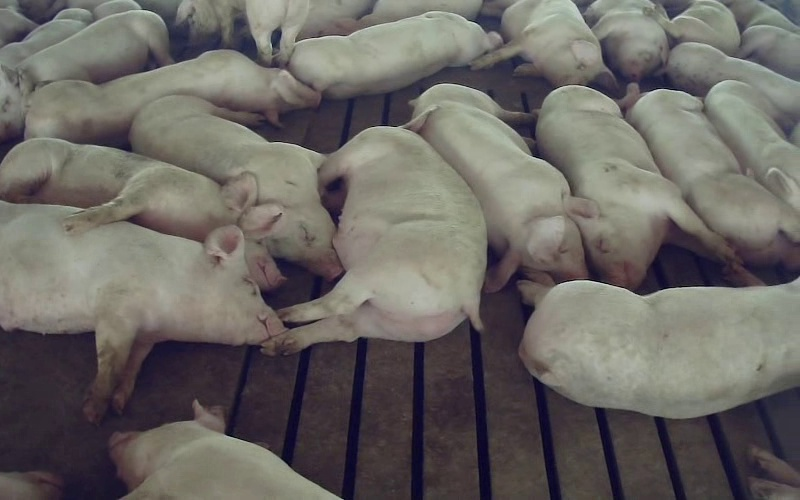pig: (263, 106, 486, 354), (519, 265, 799, 417), (536, 85, 739, 288), (129, 96, 341, 279), (411, 84, 586, 290), (619, 83, 799, 270), (24, 50, 320, 146), (109, 400, 338, 499), (0, 10, 171, 142), (288, 11, 501, 98), (471, 0, 616, 88), (705, 80, 799, 210), (666, 42, 799, 118), (174, 0, 309, 65), (584, 0, 668, 81), (653, 0, 739, 54)
